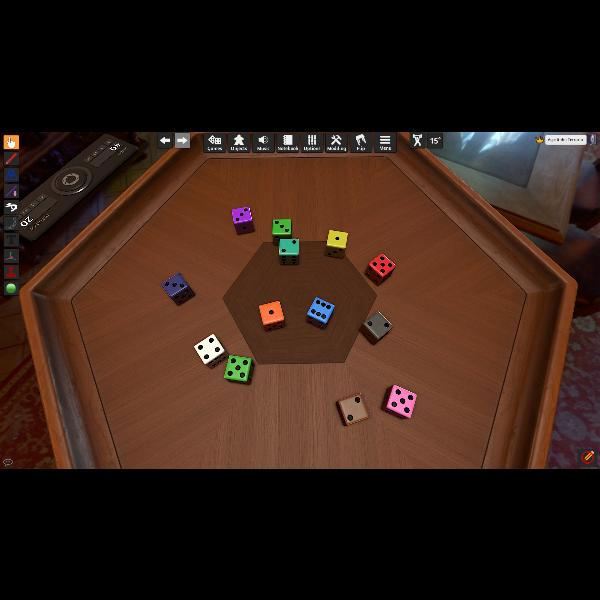d6: (383, 386, 417, 418), (359, 310, 391, 344), (162, 272, 194, 306), (194, 334, 226, 367), (336, 393, 368, 425), (366, 253, 394, 285), (224, 354, 252, 384), (308, 297, 334, 329), (259, 300, 285, 330), (232, 205, 255, 234), (326, 228, 346, 258), (271, 218, 291, 246), (279, 238, 299, 264)
